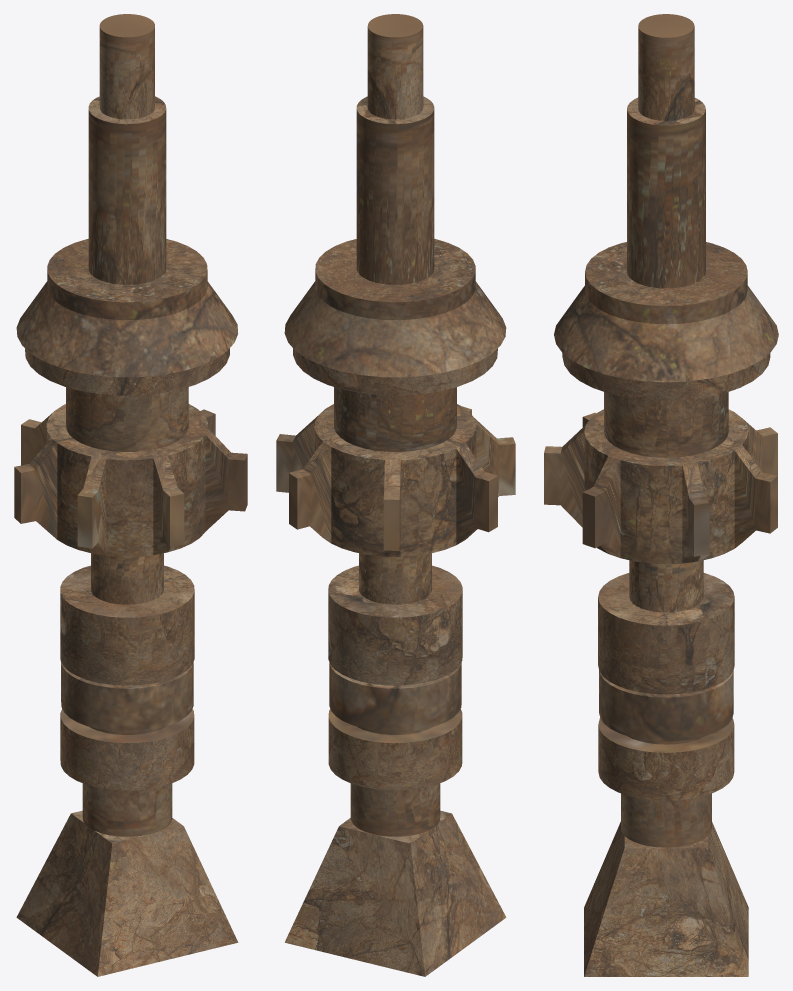
Rendered from totem.fbx.
The picture shows the model from 3 angles, left to right: view 1: azimuth 30°, elevation 25°; view 2: azimuth 150°, elevation 25°; view 3: azimuth 270°, elevation 25°; orthographic projection.
Parts seen in each view (by area): view 1: Cube; view 2: Cube; view 3: Cube.
Boxes of the visible parts, left/top/right/bottom form: Cube: left=14, top=14, right=247, bottom=976; Cube: left=276, top=14, right=515, bottom=976; Cube: left=544, top=14, right=778, bottom=976.
Size of the model in its own units: 191 by 798 by 185.
